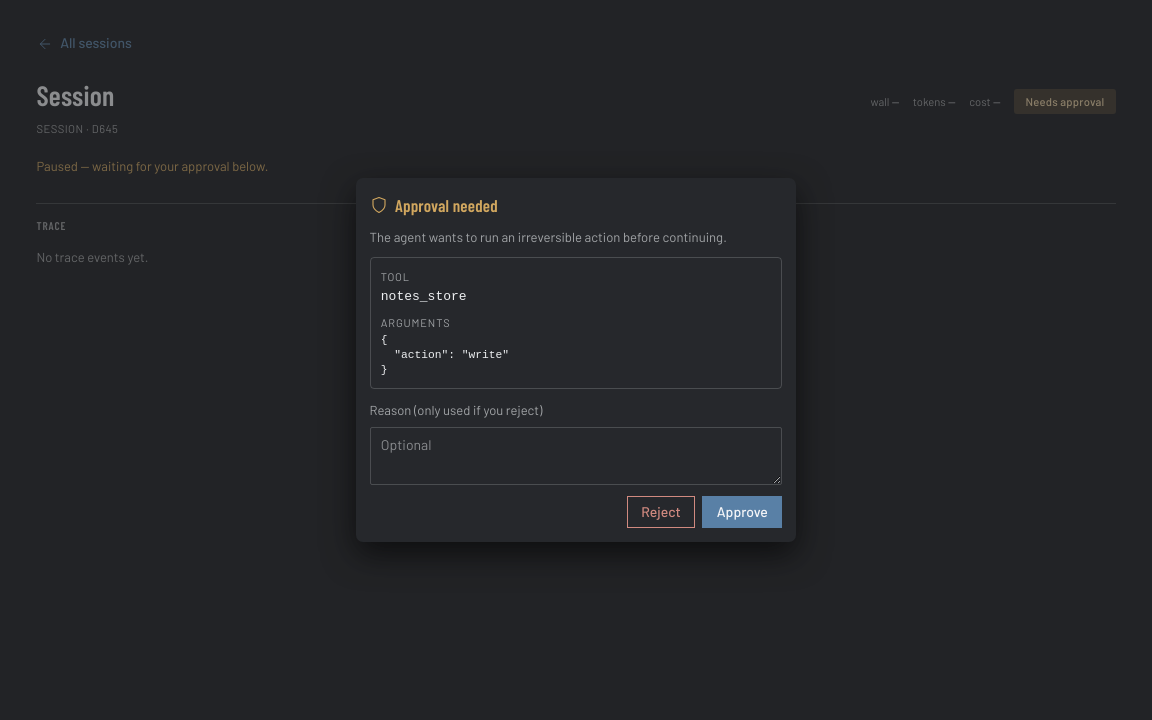
Test: SessionPage › rejects with the typed reason and refreshes
Expected: the dialog is shown, [356,178,796,542]
Type "not needed" into the text box labelled "Reason (only used if you reject)". click: x=576, y=456
box: [370,426,782,486]
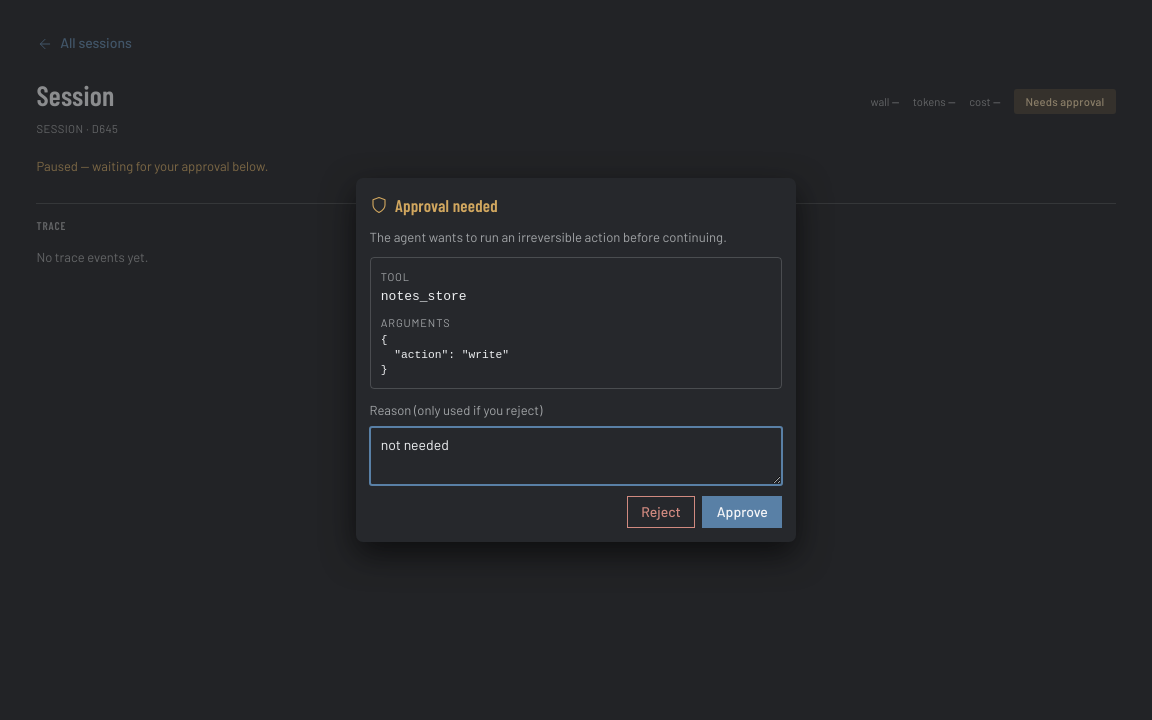
Click the button "Reject". click: x=661, y=512
box: [627,496,695,528]
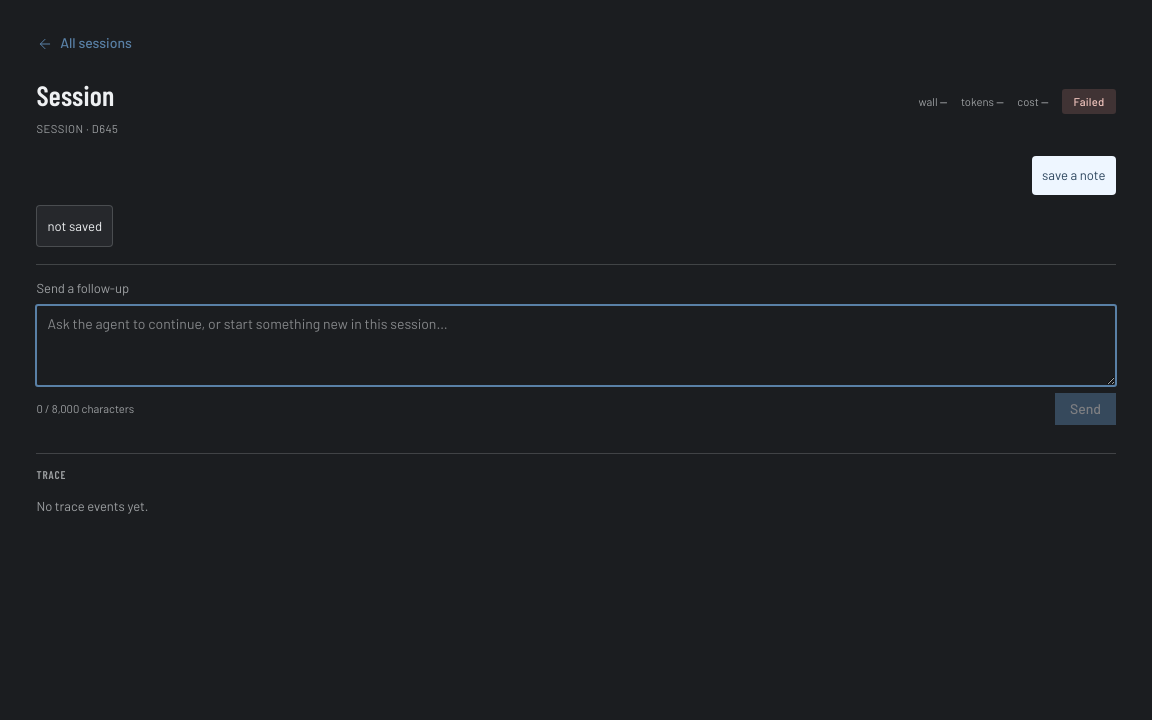
Expected: the text "not saved" is shown, [36,205,113,246]
